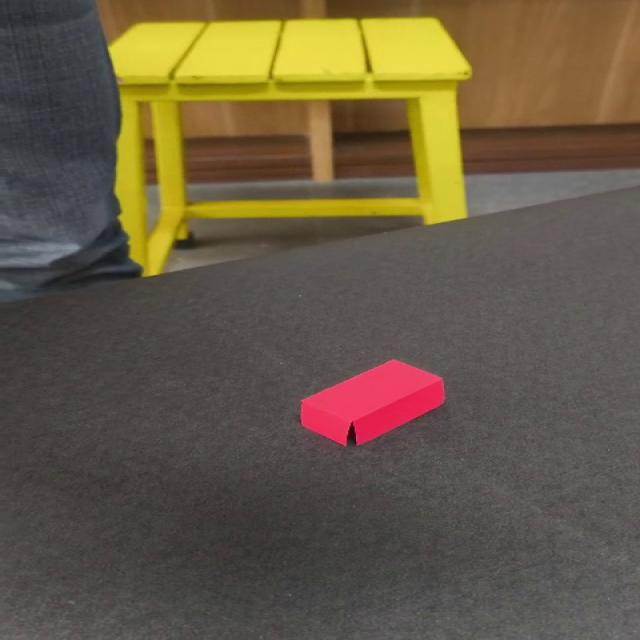red block: (297, 358, 447, 447)
